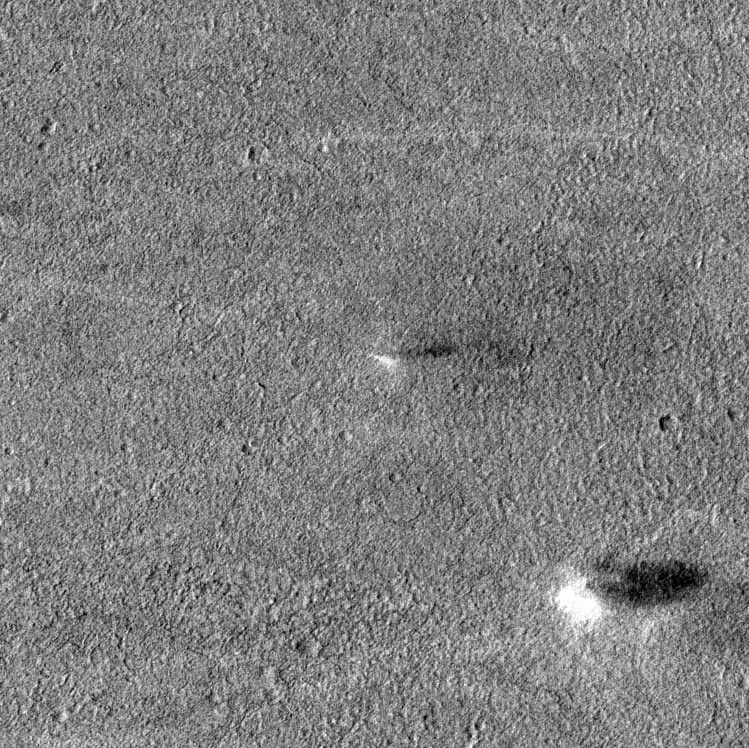dust_devil: (552, 556, 711, 628), (370, 339, 460, 372)
